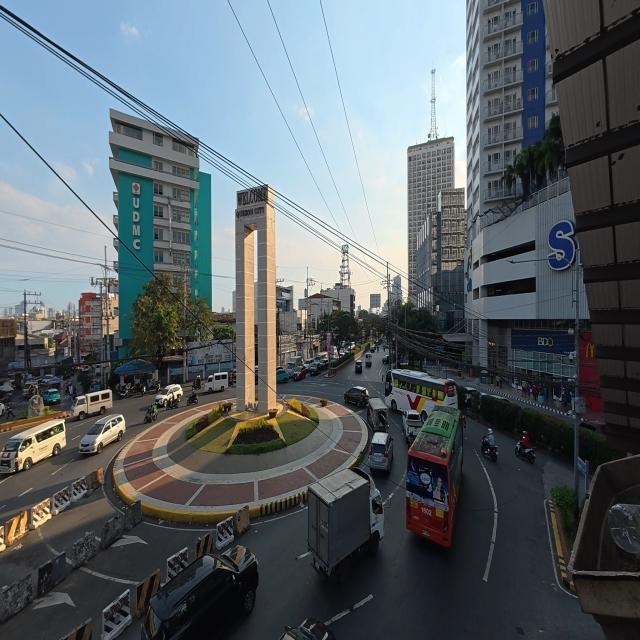Jeepneys: (367, 398, 388, 432)
bus: (406, 407, 464, 548), (385, 370, 457, 422)
car: (141, 546, 258, 639), (79, 414, 125, 453), (280, 618, 336, 639), (368, 432, 393, 471), (155, 384, 183, 406), (402, 410, 422, 440), (344, 387, 369, 407), (580, 420, 605, 434), (42, 389, 61, 405), (23, 382, 37, 399), (293, 366, 307, 380), (309, 362, 322, 376), (276, 368, 288, 382), (302, 358, 314, 369), (321, 358, 329, 369), (355, 360, 362, 372), (43, 375, 54, 382), (366, 354, 372, 366), (80, 365, 90, 372), (0, 403, 5, 416), (276, 366, 285, 373), (383, 355, 389, 364), (255, 366, 258, 384), (370, 345, 375, 353)
motorcycle: (515, 441, 535, 463), (481, 436, 497, 462), (130, 381, 146, 396), (144, 407, 157, 423), (147, 380, 162, 393), (118, 384, 130, 399), (187, 392, 198, 405), (166, 398, 179, 409), (193, 377, 201, 389), (64, 380, 70, 393)
trucks: (308, 469, 383, 583), (286, 357, 302, 378)
vans: (0, 420, 66, 473), (71, 390, 112, 419), (205, 372, 228, 392)
